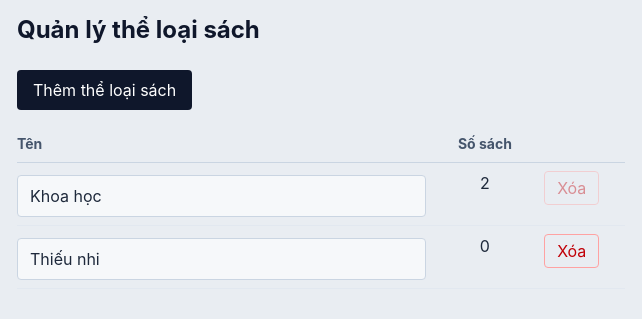
Test: Categories › inline edit › shows validation and server errors at the cell and keeps the typed value
Expected: the field named "Tên thể loại Khoa học" is shown, [17,175,426,217]
Step 1. Clear the field named "Tên thể loại Thiếu nhi" → (221, 259), box [17,238,426,280]
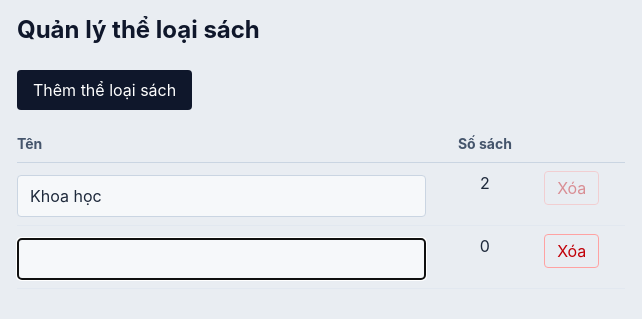
Step 2. Press Tab
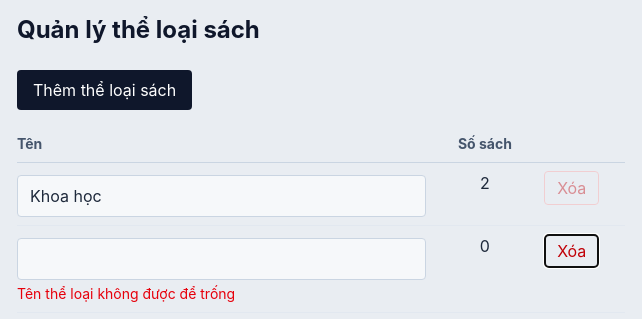
Expected: the text "Tên thể loại không được để trống" is shown, [17,285,235,302]
Step 3. Type "Khoa học" into the field named "Tên thể loại Thiếu nhi" → (221, 259), box [17,238,426,280]
Then press Enter
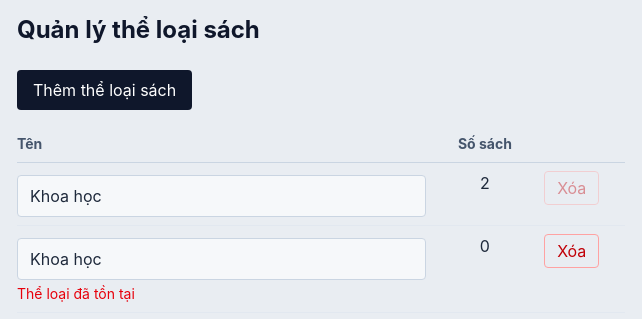
Expected: the text "Thể loại đã tồn tại" is shown, [17,285,135,302]
